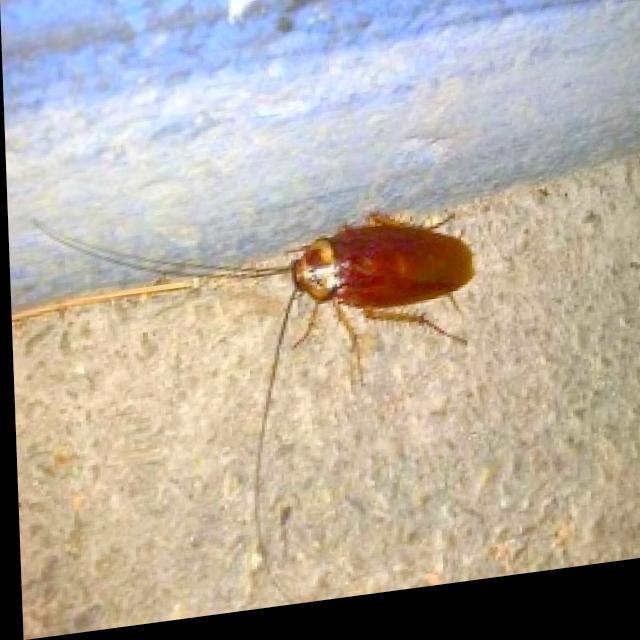cockroach: (231, 202, 481, 387)
